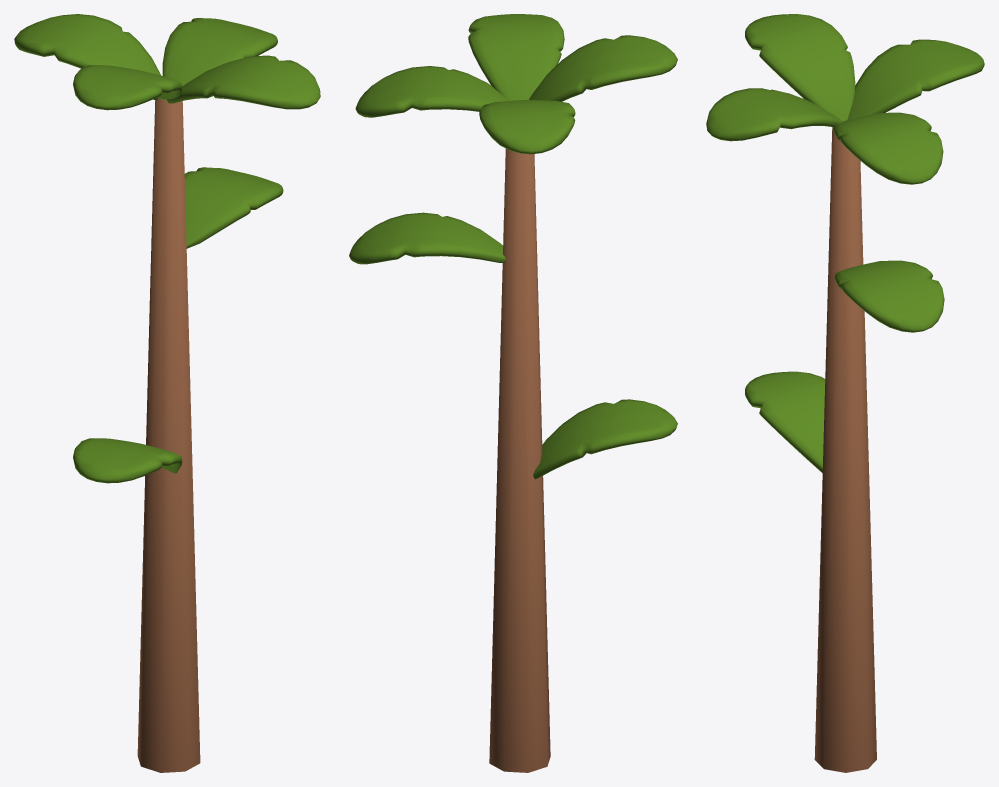
File: Tree.FBX
3 views of the same model, side by side, from view 1: azimuth 30°, elevation 25°; view 2: azimuth 150°, elevation 25°; view 3: azimuth 270°, elevation 25° (orthographic). The views are drawn at different scales.
Parts seen in each view (by area): view 1: Object011; view 2: Object011; view 3: Object011.
Boxes of the visible parts, <box> form: Object011: <box>14,14,320,772</box>; Object011: <box>349,14,677,772</box>; Object011: <box>706,14,984,772</box>.
Size of the model in its own units: 47.87 by 127 by 46.34.
Materials: 1 (1 with a texture image).
